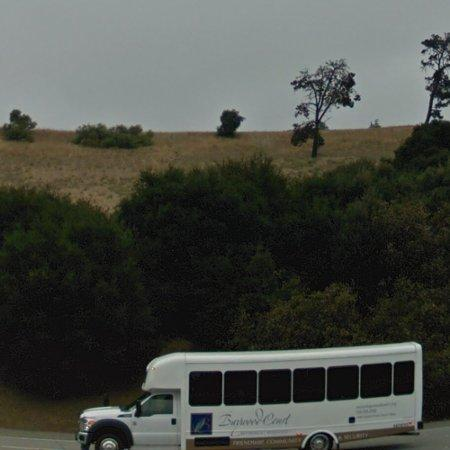buses: (77, 343, 424, 450)
